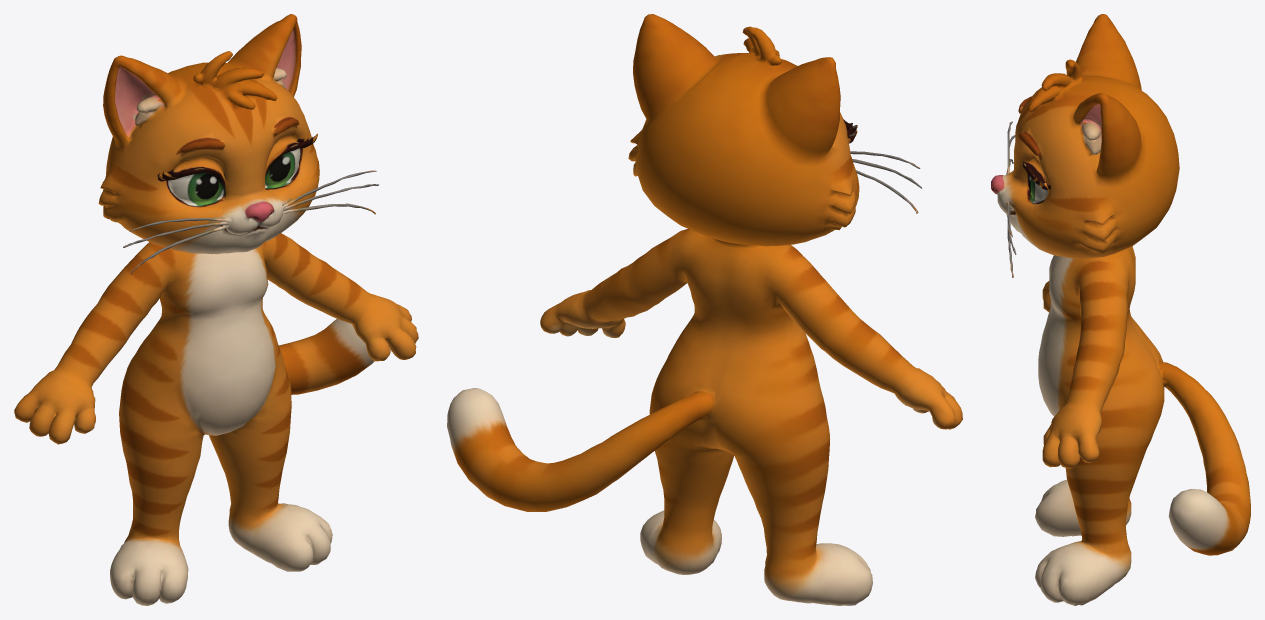
File: mitsi-catf-3d.glb
3 views of the same model, side by side, from view 1: azimuth 30°, elevation 25°; view 2: azimuth 150°, elevation 25°; view 3: azimuth 270°, elevation 25° (orthographic). The views are drawn at different scales.
Visible parts, largest first — view 1: tripo_node_00f5ed36-97e0-4b72-accb-50b69c251ae9; view 2: tripo_node_00f5ed36-97e0-4b72-accb-50b69c251ae9; view 3: tripo_node_00f5ed36-97e0-4b72-accb-50b69c251ae9.
Part boxes in pixels (x1,y1,x2,y2): tripo_node_00f5ed36-97e0-4b72-accb-50b69c251ae9: (14, 14, 418, 605); tripo_node_00f5ed36-97e0-4b72-accb-50b69c251ae9: (447, 14, 962, 605); tripo_node_00f5ed36-97e0-4b72-accb-50b69c251ae9: (991, 14, 1250, 605).
Size of the model in its own units: 0.824 by 0.9769 by 0.4531.
1 material, 1 textured.
